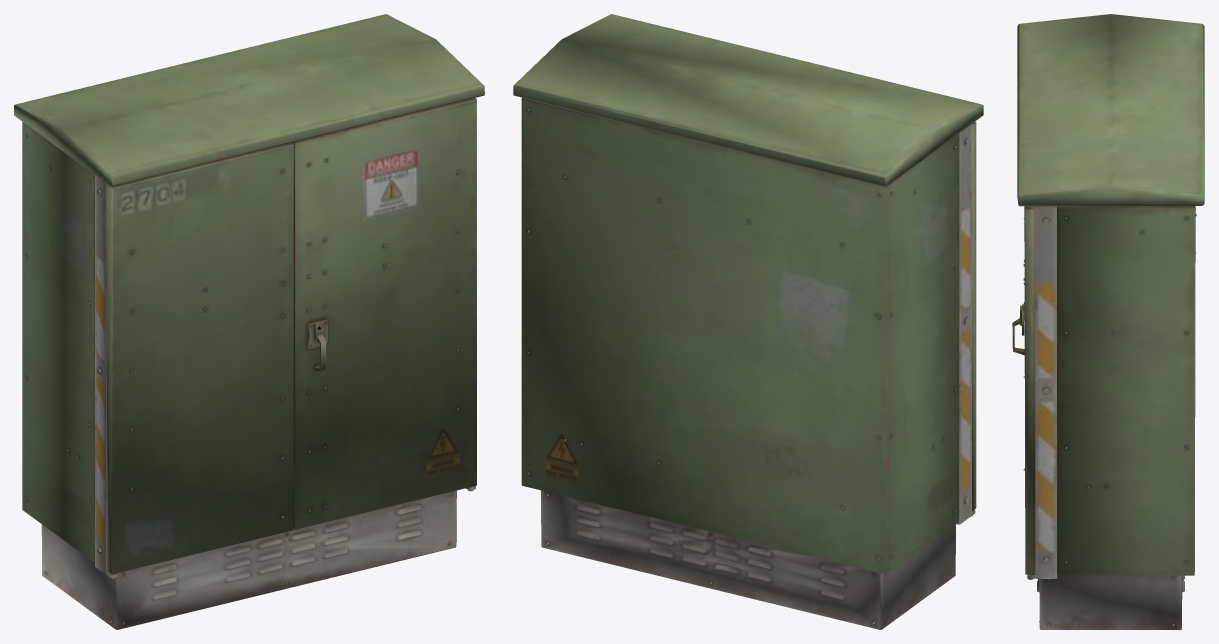
File: ubox2.glb
3 views of the same model, side by side, from view 1: azimuth 30°, elevation 25°; view 2: azimuth 150°, elevation 25°; view 3: azimuth 270°, elevation 25° (orthographic). The views are drawn at different scales.
Parts seen in each view (by area): view 1: utility_box_02; view 2: utility_box_02; view 3: utility_box_02.
Part boxes in pixels (left/top/right/bottom): utility_box_02: left=14, top=14, right=484, bottom=629; utility_box_02: left=513, top=14, right=983, bottom=629; utility_box_02: left=1012, top=14, right=1204, bottom=629.
Bounding box in the file's own units: 0.9162 × 1.12 × 0.431.
Materials: 1 (1 with a texture image).
